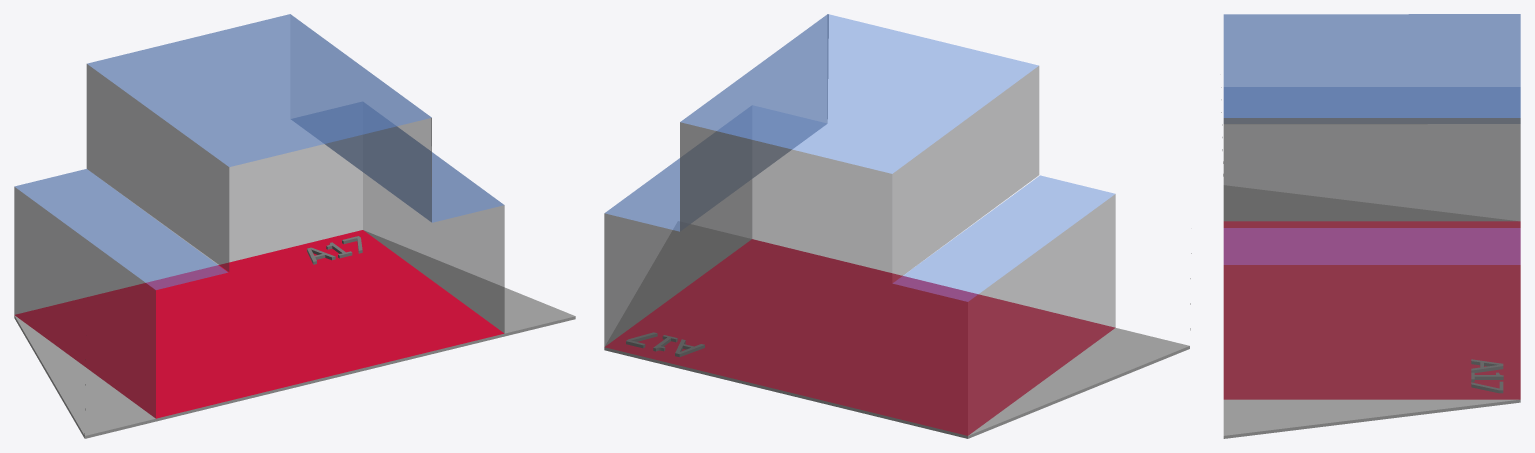
The picture shows the model from 3 angles, left to right: view 1: azimuth 30°, elevation 25°; view 2: azimuth 150°, elevation 25°; view 3: azimuth 270°, elevation 25°; orthographic projection. The views are drawn at different scales.
Visible parts, largest first — view 1: root, A17; view 2: root, A17; view 3: root, A17.
Part boxes in pixels (x1,y1,x2,y2): root: [14, 14, 575, 438]; A17: [307, 236, 362, 264]; root: [604, 14, 1191, 438]; A17: [626, 332, 704, 356]; root: [1221, 14, 1520, 438]; A17: [1471, 359, 1503, 393].
Size of the model in its own units: 4.47 by 2.06 by 2.26.
